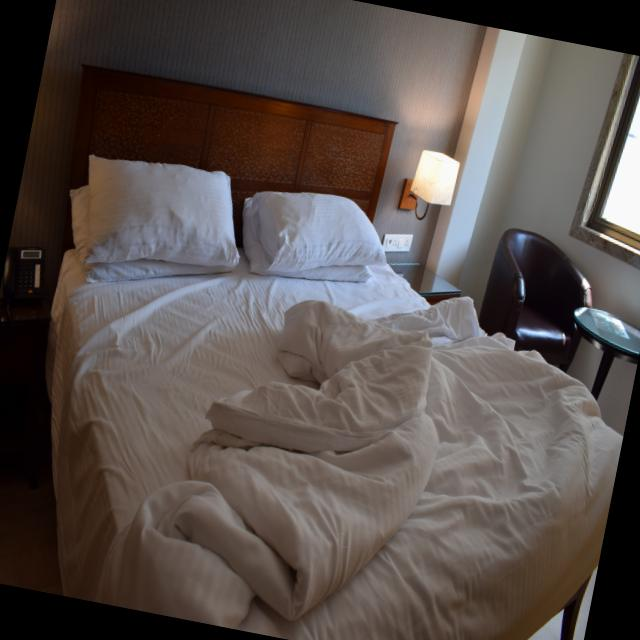mess: (0, 134, 492, 640)
